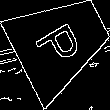P_NE: (33, 14, 90, 71)
